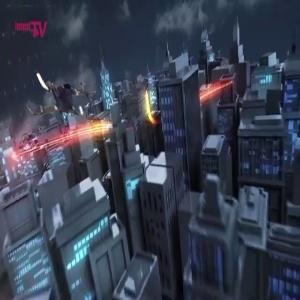drone: (22, 52, 101, 131)
